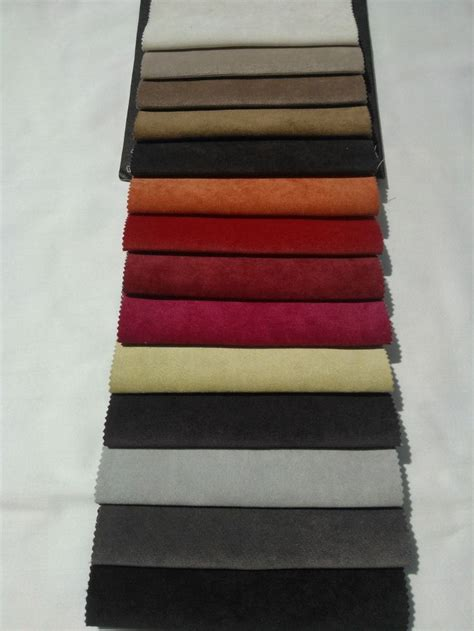gamuza: (85, 1, 418, 631)
